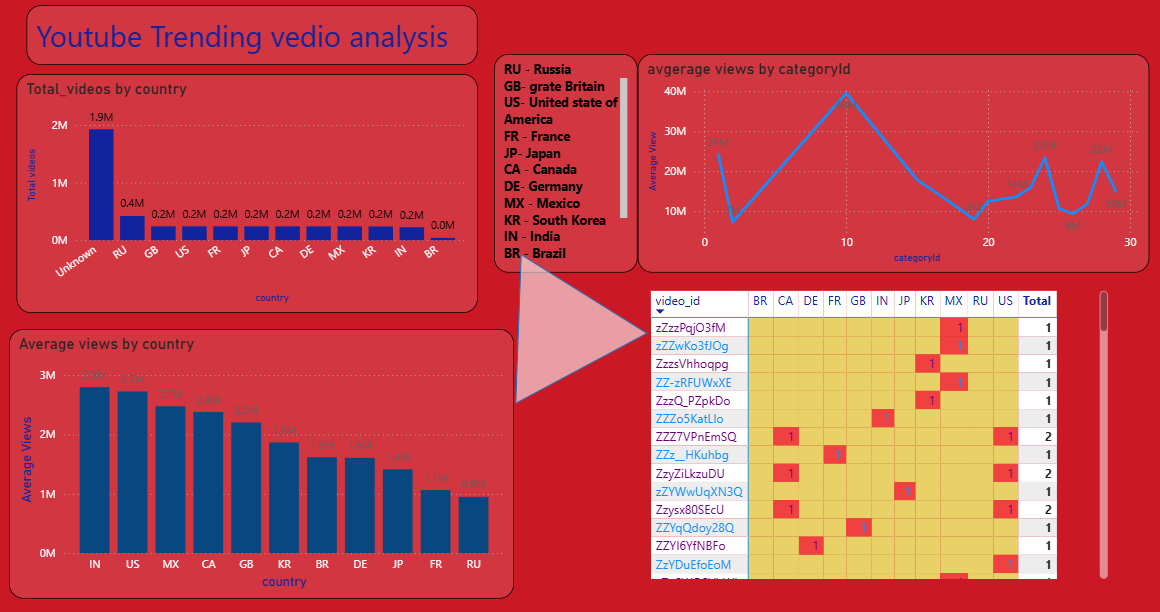

This screenshot's page, from the dashboard's own definition file:
{"tool":"powerbi","page":{"name":"Page 1","canvas":[1280,720],"ordinal":0},"visuals":[{"type":"columnChart","title":" Total_videos by country","fields":{"Y":["Sum(Total videos per country-.total_videos)"],"Category":["Total videos per country-.country"]},"box":[19.2,126.2,506.3,262.1],"z":0},{"type":"textbox","box":[543.4,104.3,157.8,240.1],"z":1000},{"type":"textbox","box":[30.2,50.8,495.4,65.9],"z":2000},{"type":"clusteredColumnChart","title":"Average views by country","fields":{"Y":["Sum(Average views per country.avg_views)"],"Category":["Average views per country.country"]},"box":[11.4,405.7,554.3,295.7],"z":3000},{"type":"shape","box":[485.8,323.8,307.4,164.7],"z":4000},{"type":"actionButton","box":[0,0,100,40],"z":5000},{"type":"lineChart","title":"avgerage views by categoryId","fields":{"Y":["Sum(Category_Analytics (2).avg_views)"],"Category":["Category_Analytics (2).categoryId"]},"box":[701.2,104.3,561.2,240.1],"z":6000},{"type":"pivotTable","fields":{"Columns":["country_Analytics (2).country"],"Rows":["country_Analytics (2).video_id"],"Values":["CountNonNull(country_Analytics (2).days_trending)"]},"box":[711.4,360,511.4,325.7],"z":7000}]}

Visuals, with their boxes on the page's 1280x720 design canvas (x1, y1, x2, y2). These are canvas units, not pixel positions in the 1160x612 screenshot, which may show the page scaled, cropped or inside an application window:
" Total_videos by country" columnChart: <region>19, 126, 526, 388</region>
textbox: <region>543, 104, 701, 344</region>
textbox: <region>30, 51, 526, 117</region>
"Average views by country" clusteredColumnChart: <region>11, 406, 566, 701</region>
shape: <region>486, 324, 793, 488</region>
actionButton: <region>0, 0, 100, 40</region>
"avgerage views by categoryId" lineChart: <region>701, 104, 1262, 344</region>
pivotTable - country_Analytics (2).country x country_Analytics (2).video_id: <region>711, 360, 1223, 686</region>
